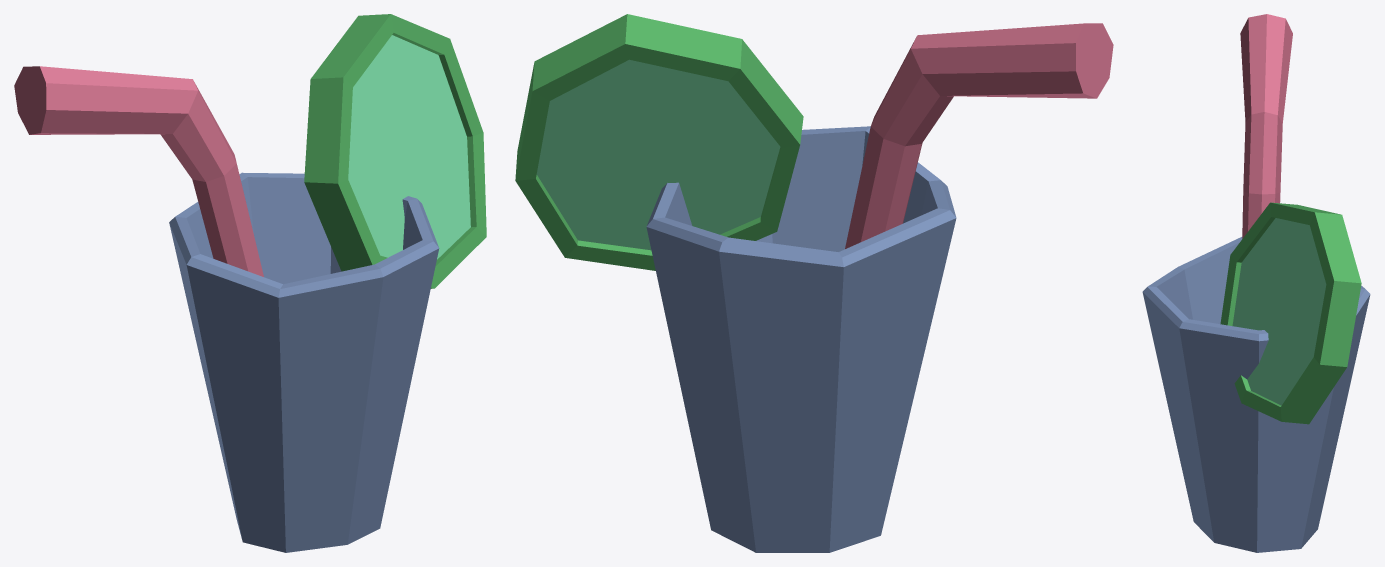
The model's file is Margerita_Glas.fbx.
3 renders of one model, left to right at view 1: azimuth 30°, elevation 25°; view 2: azimuth 150°, elevation 25°; view 3: azimuth 270°, elevation 25°, orthographic. The views are drawn at different scales.
Visible parts, largest first — view 1: Cylinder.001, Cylinder.002; view 2: Cylinder.001, Cylinder.002; view 3: Cylinder.001, Cylinder.002.
Boxes of the visible parts, box(x1,y1,x2,y2) form: Cylinder.001: box(169, 14, 486, 552); Cylinder.002: box(14, 66, 263, 276); Cylinder.001: box(515, 14, 956, 552); Cylinder.002: box(845, 23, 1113, 248); Cylinder.001: box(1142, 202, 1370, 552); Cylinder.002: box(1240, 14, 1292, 238).
Size of the model in its own units: 132 by 134 by 67.16.
